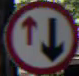Two way: (15, 11, 65, 64)
